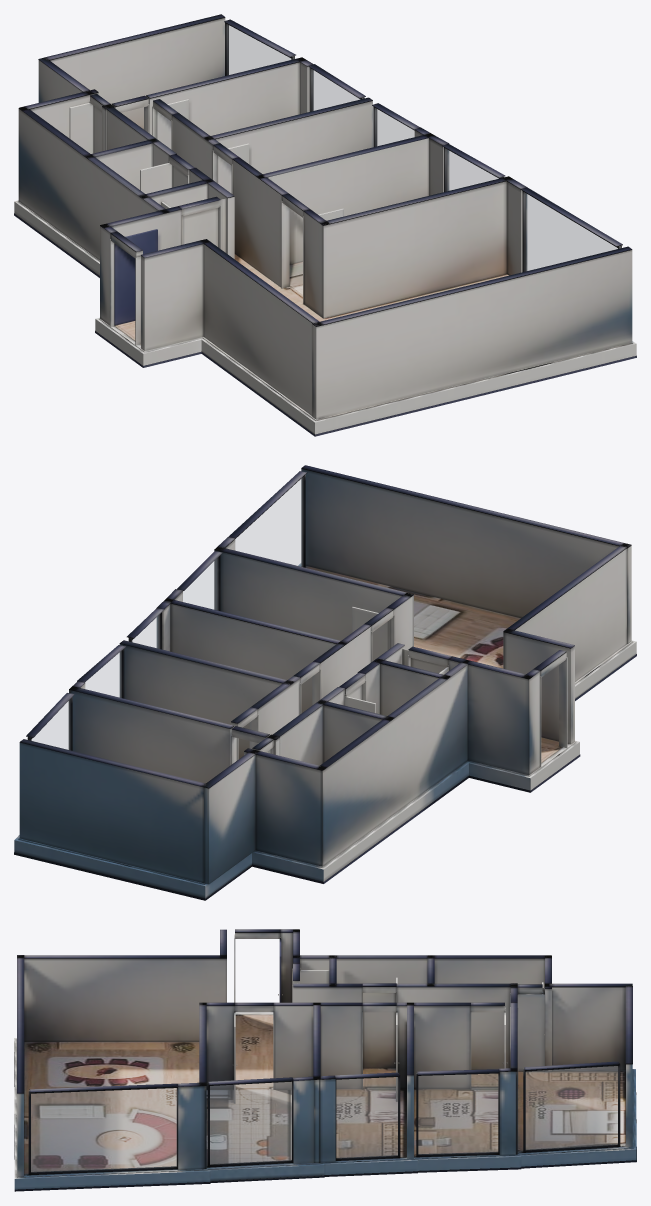
3 renders of one model, top to bottom at view 1: azimuth 30°, elevation 25°; view 2: azimuth 150°, elevation 25°; view 3: azimuth 270°, elevation 25°, orthographic. The views are drawn at different scales.
Visible parts, largest first — view 1: plan, glass4_m, glass0_m, glass3_m, glass1_m, glass2_m; view 2: plan, glass4_m, glass3_m, glass1_m, glass0_m; view 3: plan, glass4_m, glass0_m, glass3_m, glass1_m, glass2_m.
Boxes of the visible parts, x1,y1,x2,y2 form: plan: (14,14,636,436); glass4_m: (525,193,617,271); glass0_m: (228,25,290,74); glass3_m: (446,149,498,190); glass1_m: (312,70,359,110); glass2_m: (376,109,414,145); plan: (14,465,636,900); glass4_m: (235,478,302,566); glass3_m: (183,558,217,609); glass1_m: (85,651,121,697); glass0_m: (32,700,69,749); plan: (14,929,636,1191); glass4_m: (31,1088,176,1172); glass0_m: (526,1066,617,1149); glass3_m: (210,1082,291,1164); glass1_m: (418,1074,497,1154); glass2_m: (336,1077,397,1158).
Size of the model in its own units: 9.66 by 2.62 by 15.28.
Materials: 2 (1 with a texture image).
